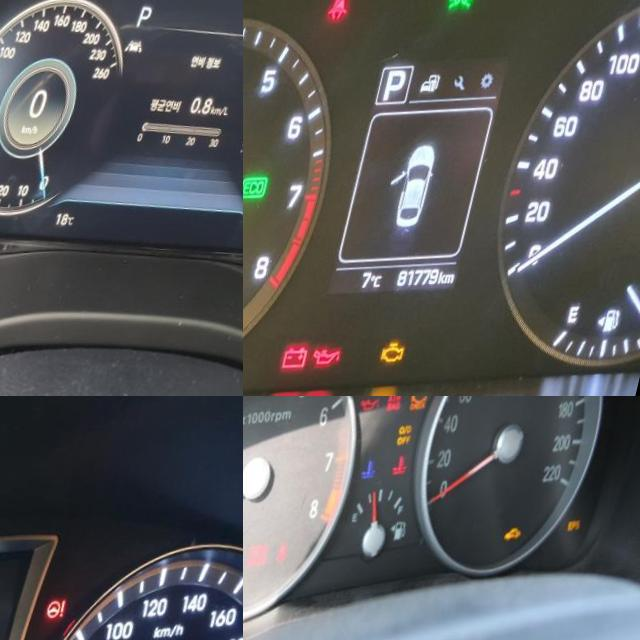Engine cooling system: (406, 457, 425, 478)
LaneCenteringOff: (131, 41, 152, 57)
SideLamp: (453, 0, 484, 15)
